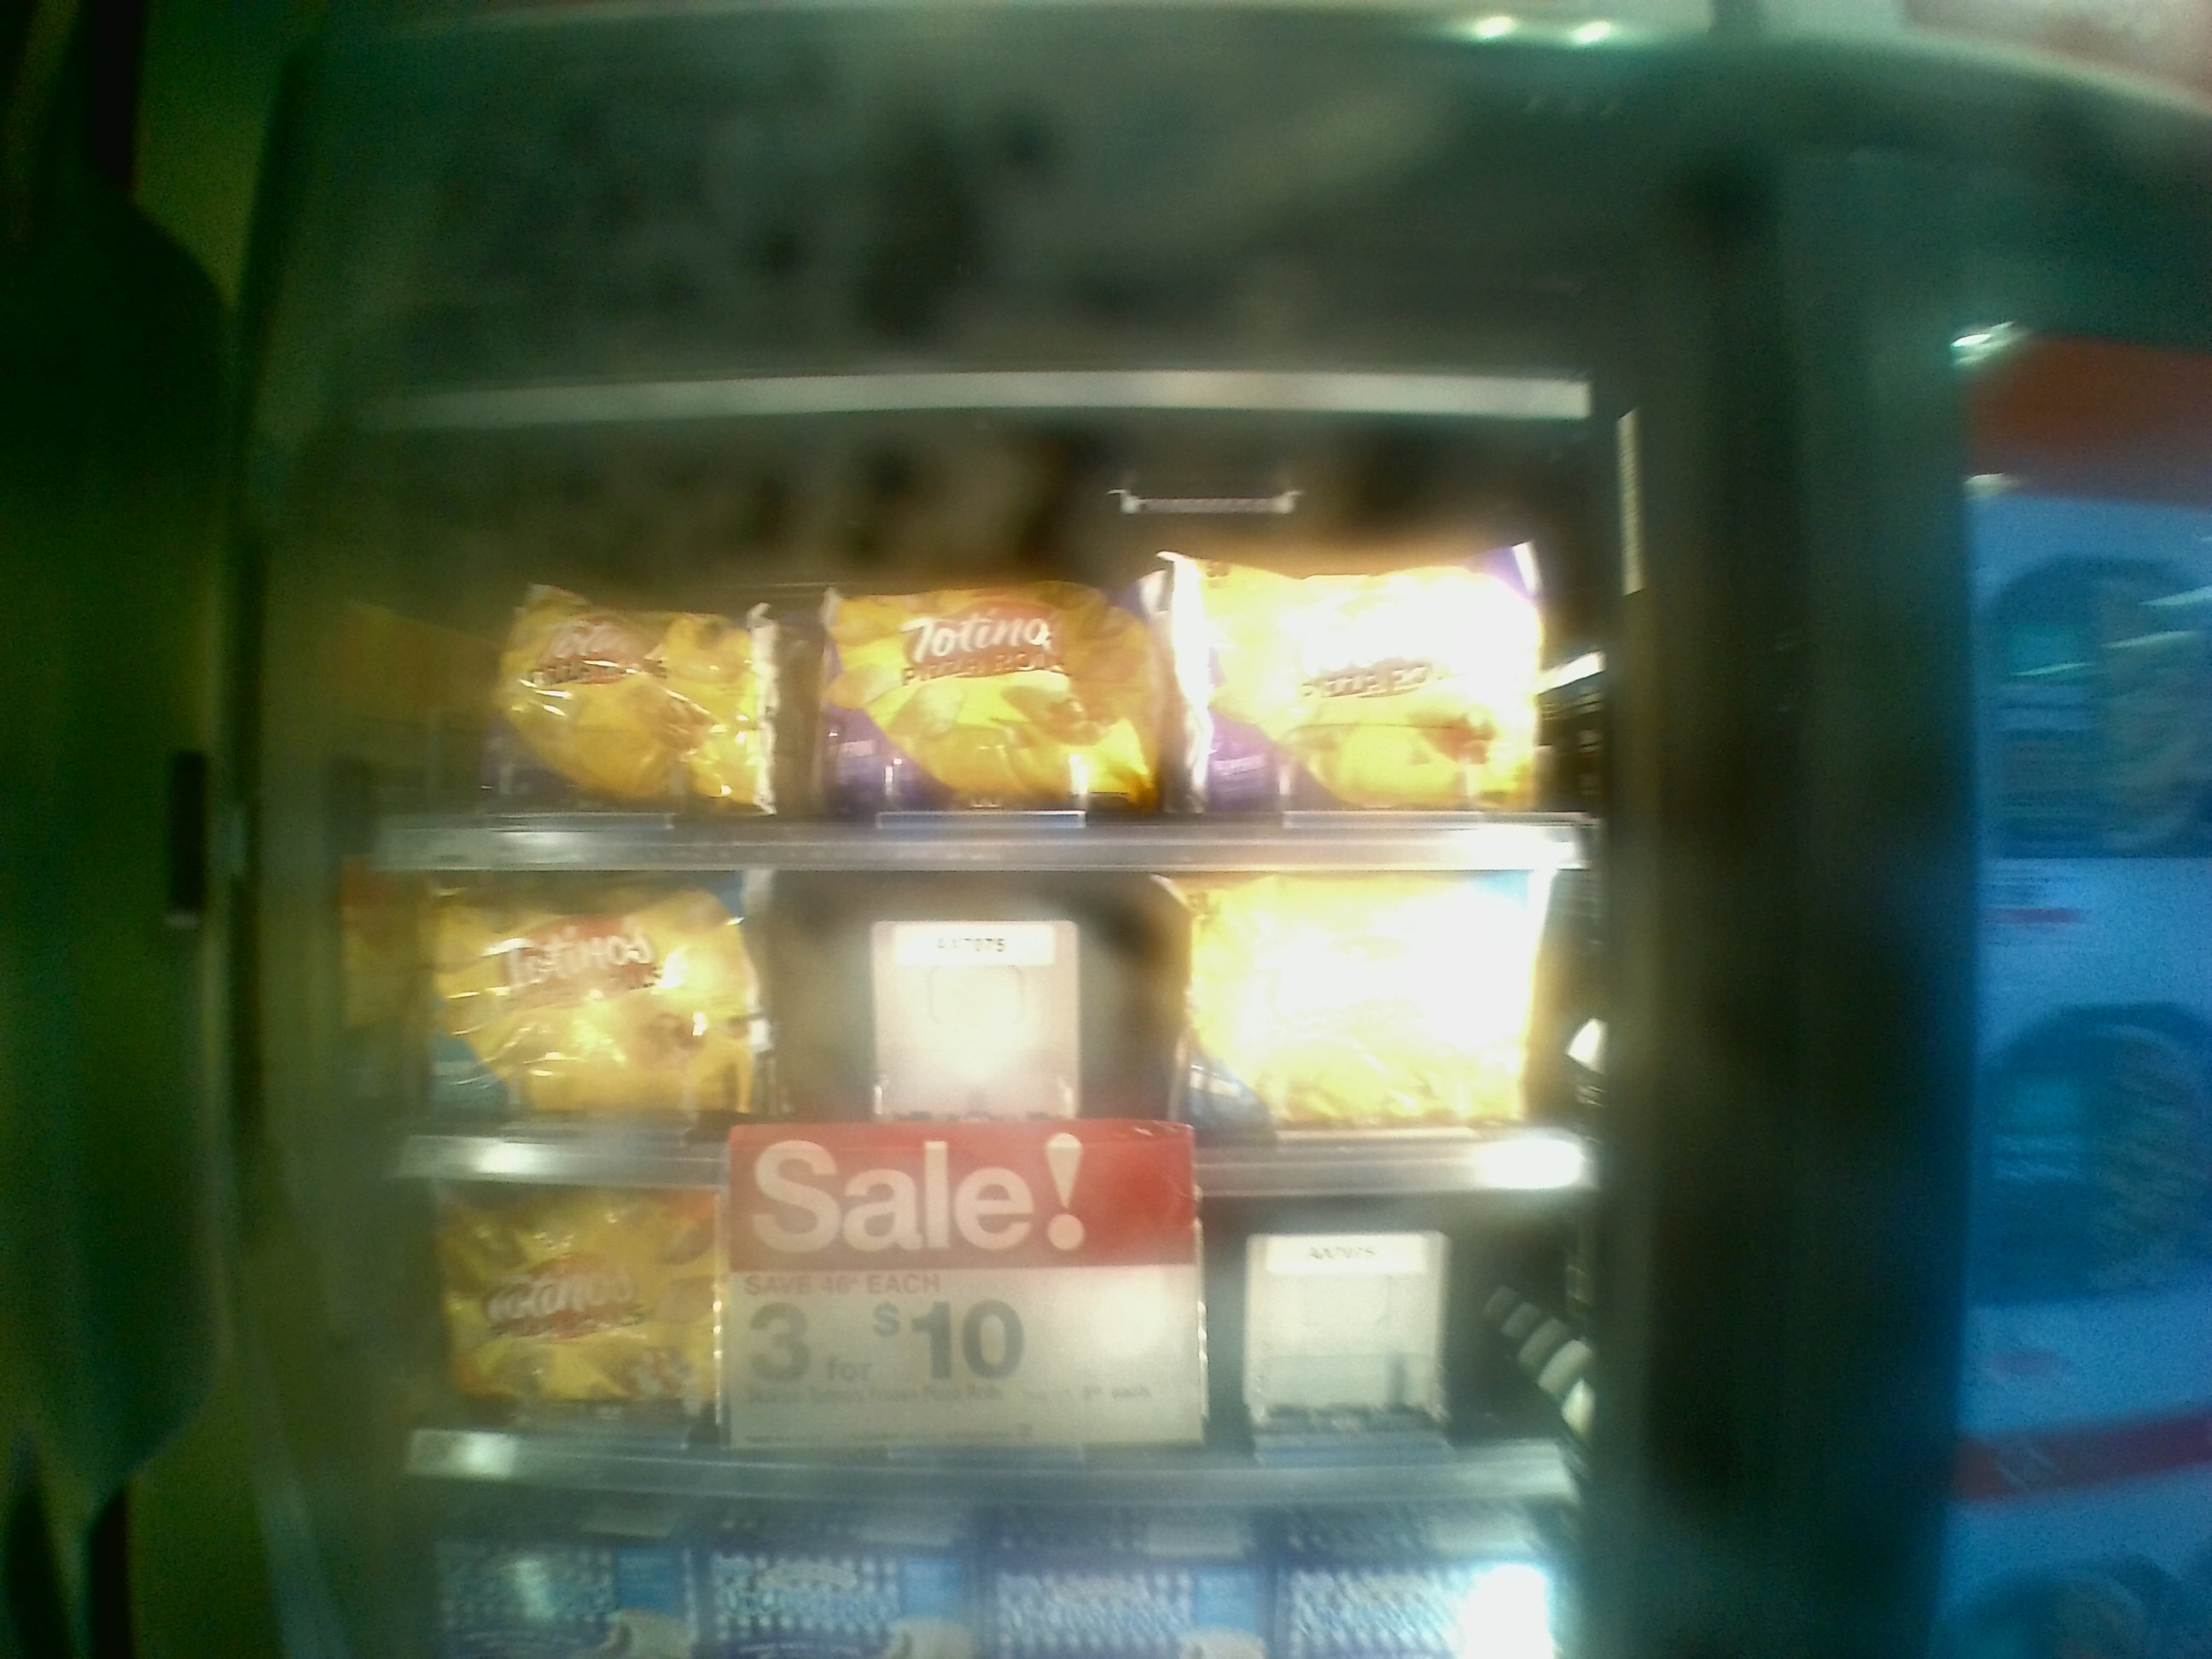shelf: (345, 484, 1618, 868)
